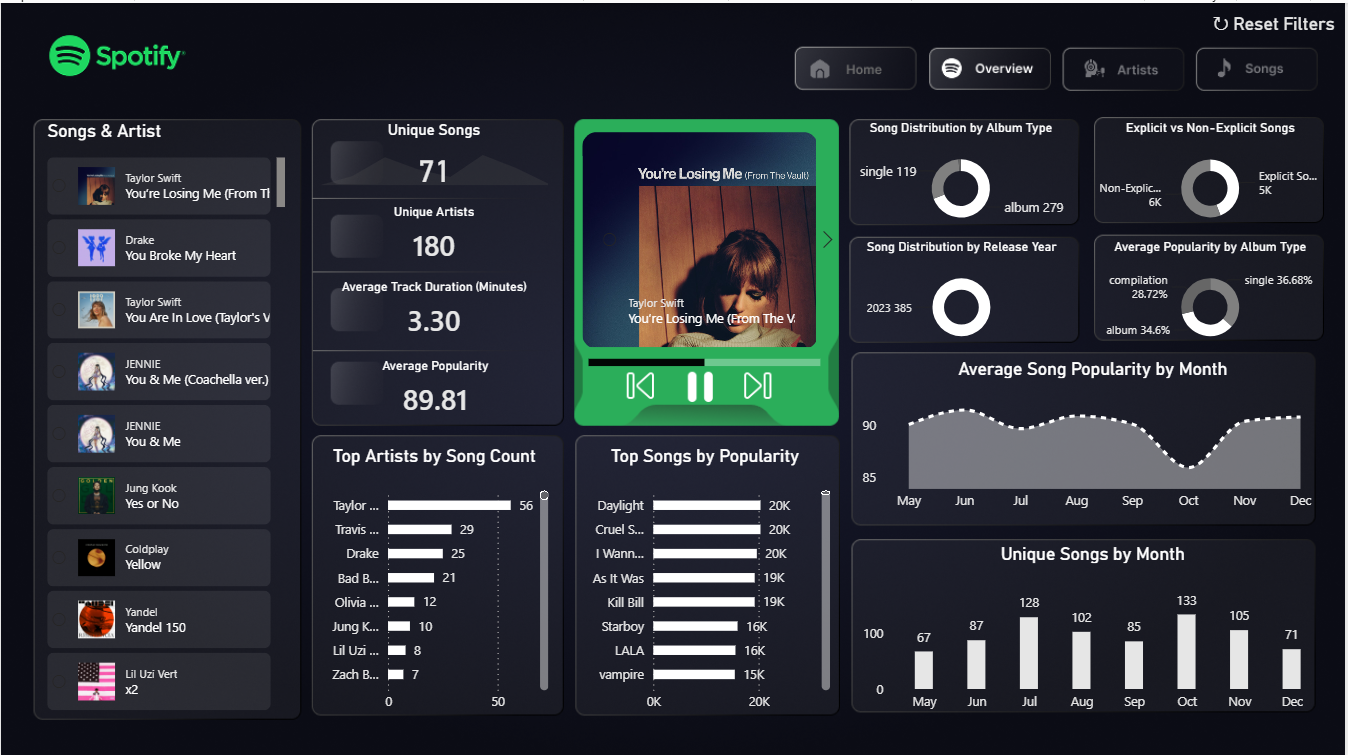

This screenshot's page, from the dashboard's own definition file:
{"tool":"powerbi","page":{"name":"Overview","canvas":[1280,720],"ordinal":1},"visuals":[{"type":"clusteredBarChart","title":"Top Artists by Song Count","fields":{"Y":["_Measures.Distinct Songs"],"Category":["Top-50-World.artist"]},"box":[299.1,421.3,227.8,262.1],"z":0},{"type":"clusteredBarChart","title":"Top Songs by Popularity","fields":{"Category":["Top-50-World.song"],"Y":["Sum(Top-50-World.popularity)"]},"box":[546.1,421.3,248.4,262.1],"z":1000},{"type":"areaChart","title":"Average Song Popularity by Month","fields":{"Y":["_Measures.Avg Popularity"],"Category":["Top-50-World.Month"]},"box":[815.1,337.6,448.7,153.7],"z":2000},{"type":"donutChart","title":"Song Distribution by Album Type","fields":{"Category":["Top-50-World.album_type"],"Y":["_Measures.Distinct Songs"]},"box":[764.3,111.9,300,104.8],"z":3000},{"type":"donutChart","title":"Explicit vs  Non-Explicit Songs","fields":{"Y":["_Measures.Explicit Songs","_Measures.Non-Explicit Songs"]},"box":[1039.3,111.9,225,104.8],"z":4000},{"type":"donutChart","title":"Average Popularity by Album Type","fields":{"Category":["Top-50-World.album_type"],"Y":["_Measures.Avg Popularity"]},"box":[1039.3,225,225,104.8],"z":5000},{"type":"donutChart","title":"Song Distribution by Release Year","fields":{"Category":["Top-50-World.Year"],"Y":["_Measures.Distinct Songs"]},"box":[802.4,225,225,104.8],"z":6000},{"type":"clusteredColumnChart","title":"Unique Songs by Month","fields":{"Y":["_Measures.Distinct Songs"],"Category":["Top-50-World.Month"]},"box":[815.5,514.3,448.8,169],"z":7000},{"type":"kpi","title":"Unique Songs","fields":{"TrendLine":["Top-50-World.Month"],"Indicator":["_Measures.Distinct Songs"]},"box":[298.8,111.9,227.4,66.7],"z":8000},{"type":"cardVisual","title":"Unique Artists","fields":{"Data":["Count(Top-50-World.artist)"]},"box":[298.8,191.7,227.4,66.7],"z":9000},{"type":"cardVisual","title":"Average Track Duration (Minutes)","fields":{"Data":["_Measures.Avg Duration Minutes"]},"box":[298.8,263.1,227.4,66.7],"z":10000},{"type":"cardVisual","title":"Average Popularity","fields":{"Data":["_Measures.Avg Popularity"]},"box":[300,338.1,227.4,66.7],"z":11000},{"type":"advancedSlicerVisual","title":"Songs & Artist","fields":{"Values":["Top-50-World.song"]},"box":[39.3,111.9,236.9,571.4],"z":12000},{"type":"advancedSlicerVisual","title":"Songs & Artist","fields":{"Values":["Top-50-World.song"]},"box":[527.4,116.7,275,217.9],"z":13000},{"type":"hundredPercentStackedBarChart","fields":{"Y":["_Measures.Avg Popularity","Avg(Top-50-World.popularity)"]},"box":[554.8,307.1,231,64.3],"z":14000},{"type":"image","box":[701.2,350,39,29],"z":15000},{"type":"image","box":[646.4,351.2,39,29],"z":16000},{"type":"image","box":[589.3,350,39,29],"z":17000},{"type":"actionButton","box":[756.7,42.6,119,38.1],"z":18000},{"type":"actionButton","box":[1010.2,42.6,119,38.1],"z":19000},{"type":"actionButton","box":[1141.2,42.6,119,38.1],"z":20000},{"type":"actionButton","box":[875.7,42.6,119,38.1],"z":21000},{"type":"shape","box":[546.4,113.1,248.8,284.5],"z":22000},{"type":"actionButton","title":"↻ Reset Filters","box":[1131.1,9.7,139.1,23.7],"z":23000}]}

Visuals, with their boxes in screenshot pixels (x1, y1, x2, y2), scaled from the page's 1280x720 canvas onto the 1348x755 screenshot:
"Top Artists by Song Count" clusteredBarChart: detection(315, 442, 555, 717)
"Top Songs by Popularity" clusteredBarChart: detection(575, 442, 837, 717)
"Average Song Popularity by Month" areaChart: detection(858, 354, 1331, 515)
"Song Distribution by Album Type" donutChart: detection(805, 117, 1121, 227)
"Explicit vs  Non-Explicit Songs" donutChart: detection(1095, 117, 1331, 227)
"Average Popularity by Album Type" donutChart: detection(1095, 236, 1331, 346)
"Song Distribution by Release Year" donutChart: detection(845, 236, 1082, 346)
"Unique Songs by Month" clusteredColumnChart: detection(859, 539, 1331, 717)
"Unique Songs" kpi: detection(315, 117, 554, 187)
"Unique Artists" cardVisual: detection(315, 201, 554, 271)
"Average Track Duration (Minutes)" cardVisual: detection(315, 276, 554, 346)
"Average Popularity" cardVisual: detection(316, 355, 555, 424)
"Songs & Artist" advancedSlicerVisual: detection(41, 117, 291, 717)
"Songs & Artist" advancedSlicerVisual: detection(555, 122, 845, 351)
hundredPercentStackedBarChart - _Measures.Avg Popularity x Avg(Top-50-World.popularity): detection(584, 322, 828, 389)
image: detection(738, 367, 780, 397)
image: detection(681, 368, 722, 399)
image: detection(621, 367, 662, 397)
actionButton: detection(797, 45, 922, 85)
actionButton: detection(1064, 45, 1189, 85)
actionButton: detection(1202, 45, 1327, 85)
actionButton: detection(922, 45, 1048, 85)
shape: detection(575, 119, 837, 417)
"↻ Reset Filters" actionButton: detection(1191, 10, 1338, 35)
